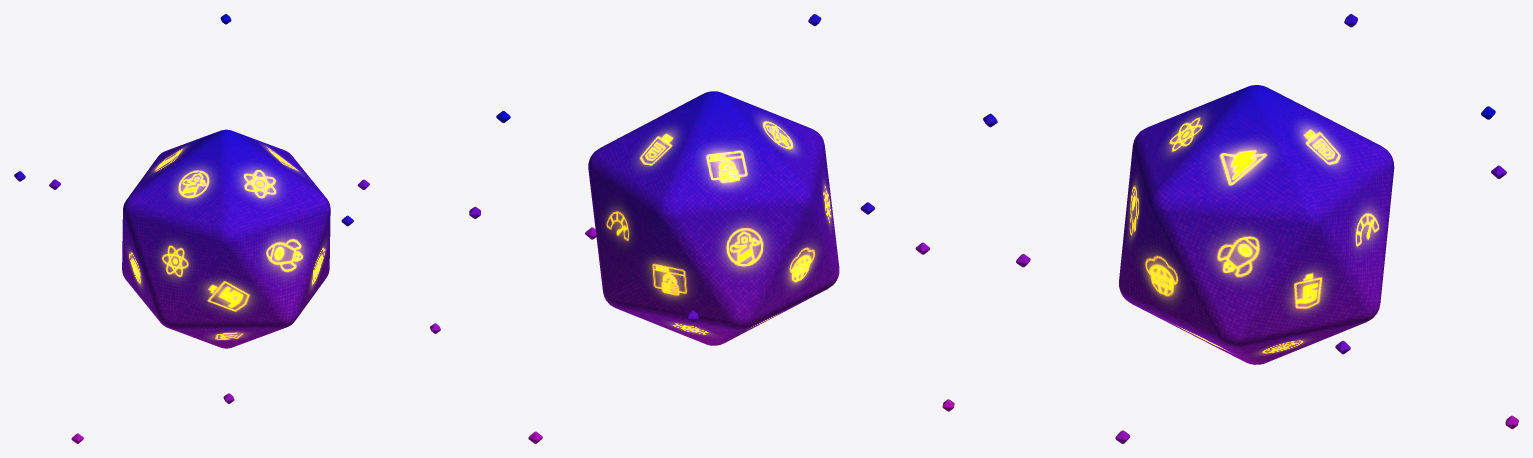
The picture shows the model from 3 angles, left to right: view 1: azimuth 30°, elevation 25°; view 2: azimuth 150°, elevation 25°; view 3: azimuth 270°, elevation 25°; orthographic projection. The views are drawn at different scales.
Parts seen in each view (by area): view 1: polySurface2.001; view 2: polySurface2.001; view 3: polySurface2.001.
Part boxes in pixels (box(x1,y1,x2,y2)): polySurface2.001: box(14, 14, 440, 443); polySurface2.001: box(469, 14, 954, 443); polySurface2.001: box(983, 14, 1518, 443).
Size of the model in its own units: 3.33 by 2.49 by 3.38.
Materials: 1 (1 with a texture image).
